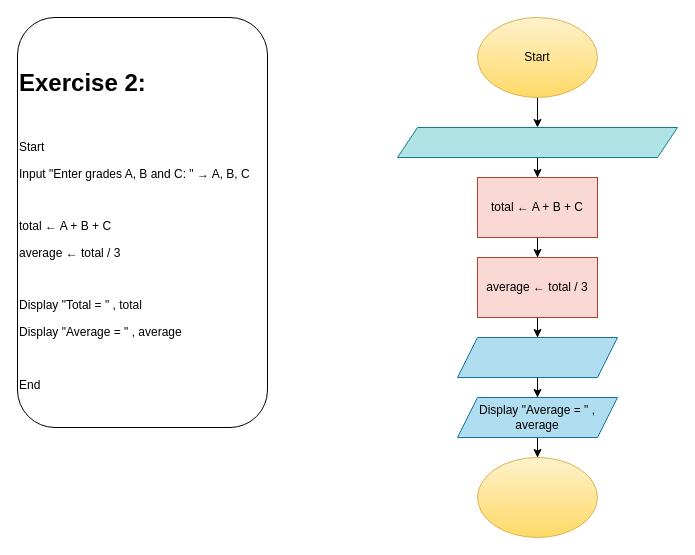
This 695x555 diagram has some shape labels left out. Here are the shapes that lost their labels. From the top down, the centre of each, then its label:
(537,142): Input "Enter grades A, B, and C: " > A, B, C
(537,357): Display "Total = " , total
(537,497): End
